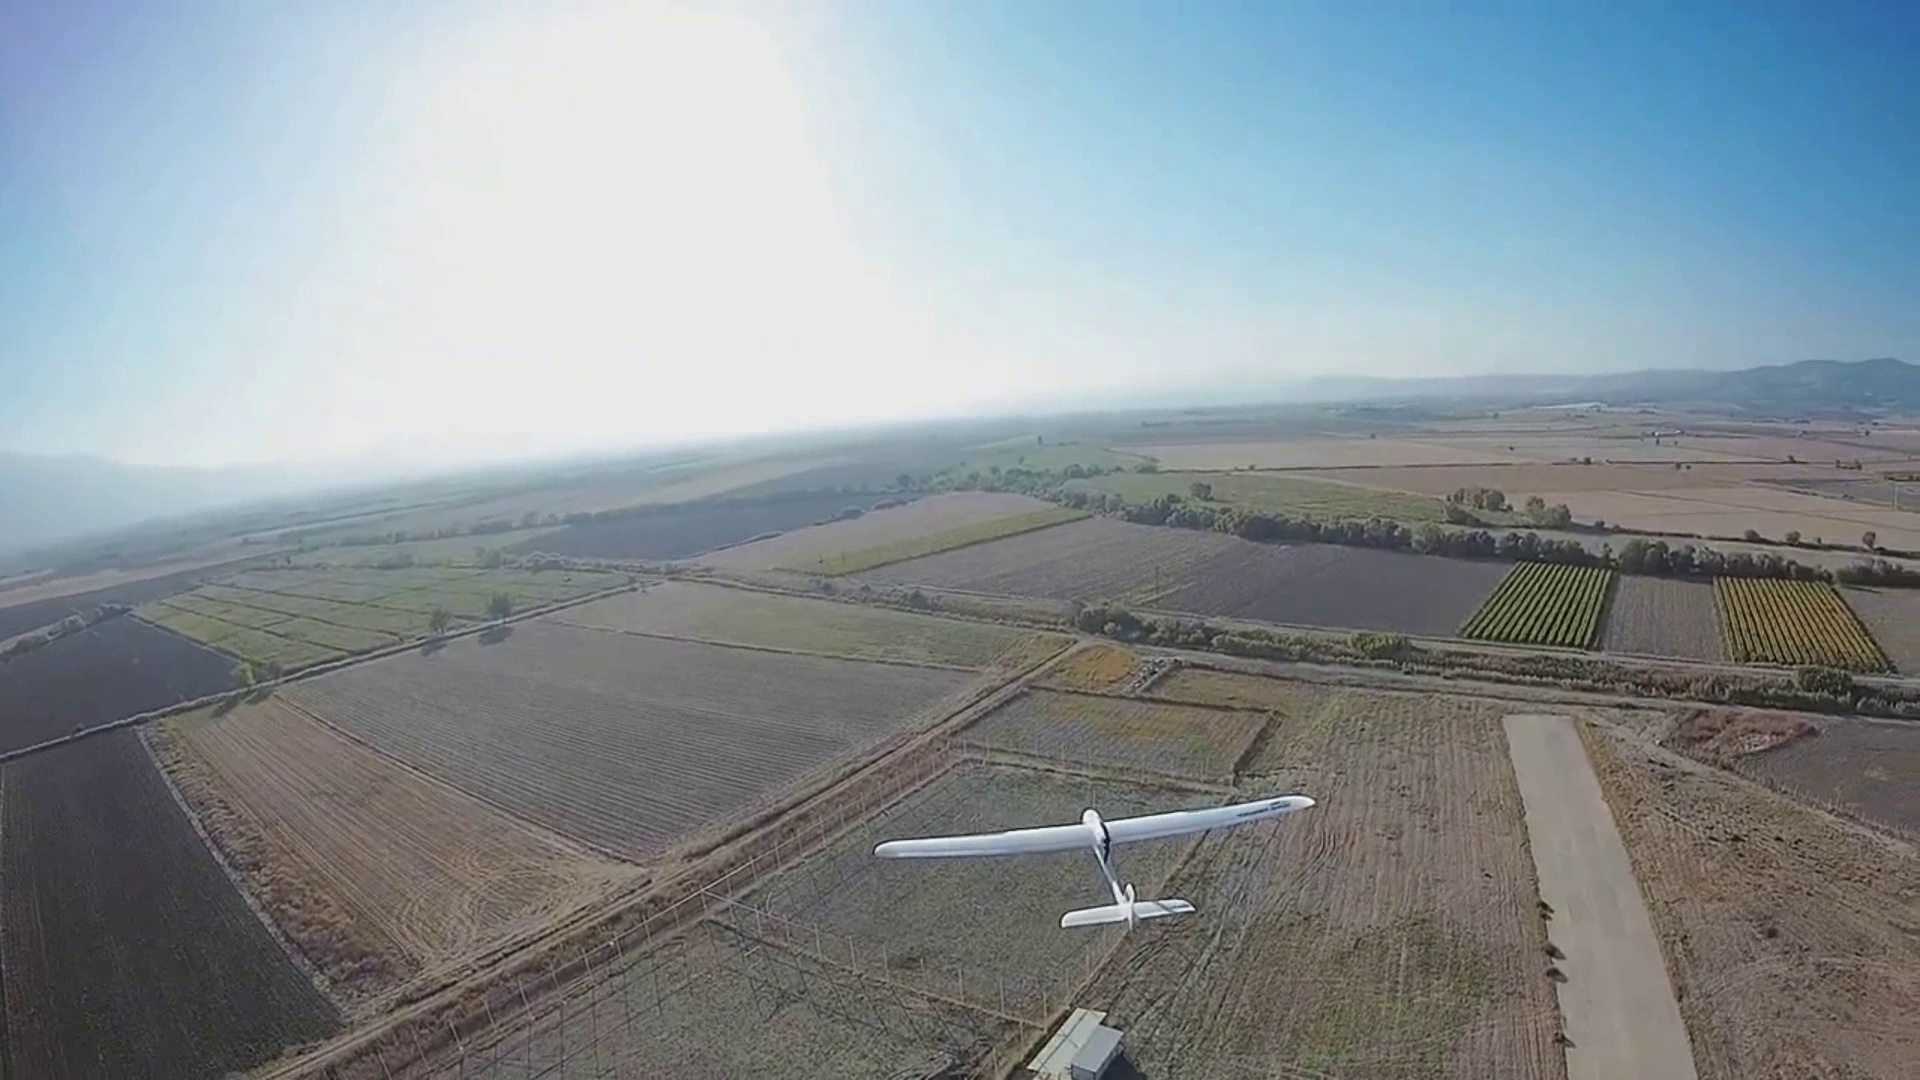airplane: (874, 791, 1315, 926)
